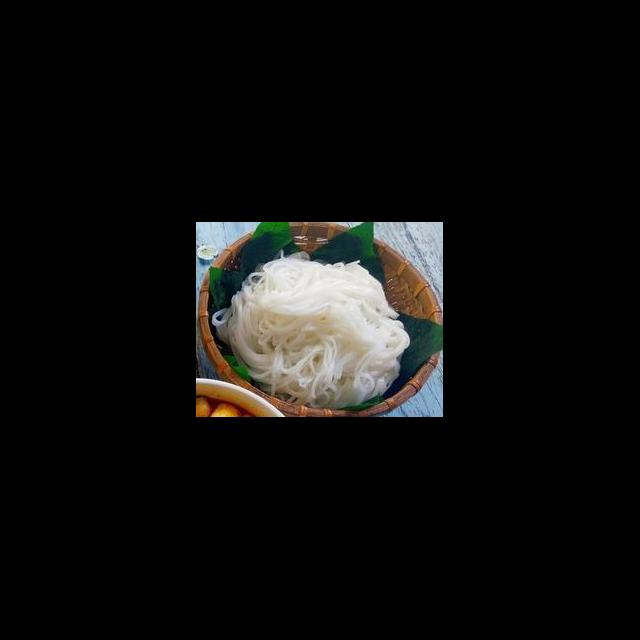bun: (208, 246, 412, 412)
